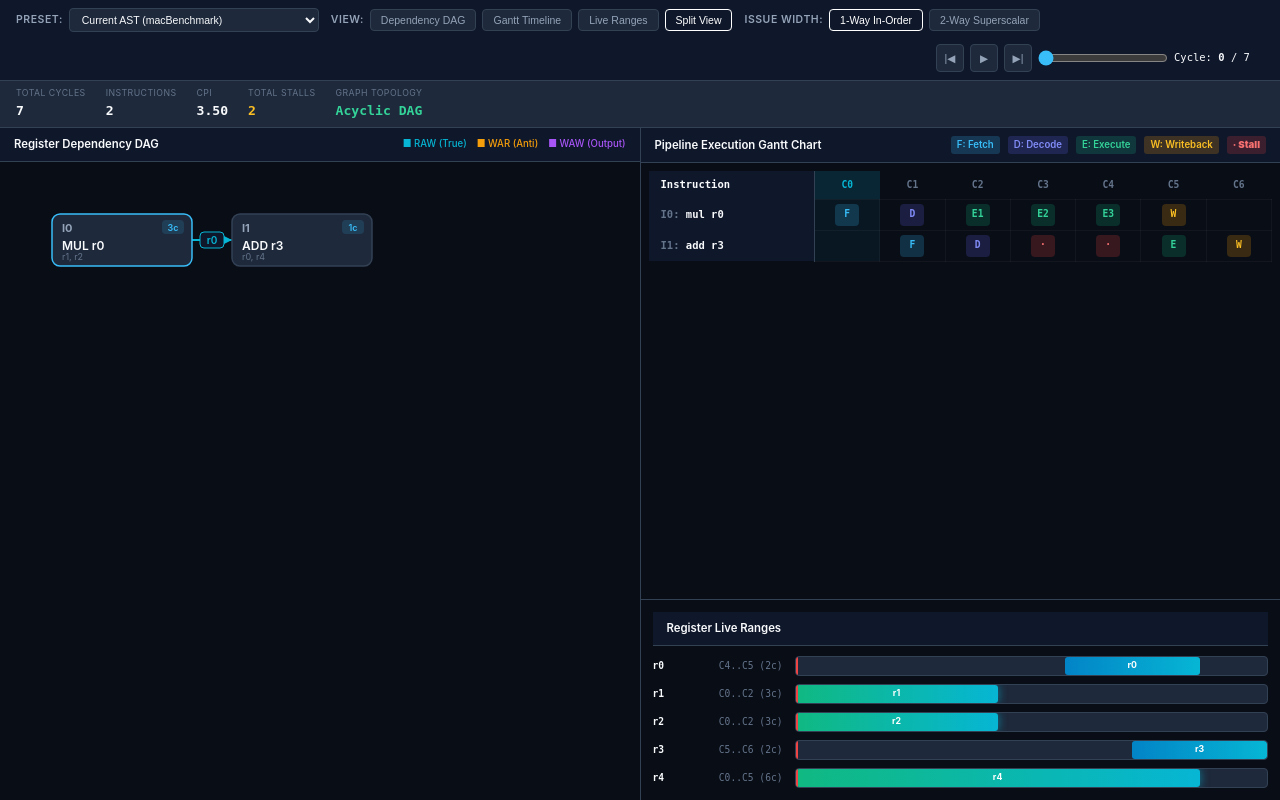
HardwarePipelineWidget Component › controls clock cycle scrubber via slider, step buttons, and auto-play
This screenshot has width=1280, height=800.
expect the element with test id "hardware-cycle-readout" reads "Cycle: 0 / 7": met, box [1174, 51, 1250, 63]
Note: Step Forward
Click the button with test id "hardware-step-fwd-btn" at (1018, 58), box [1004, 44, 1032, 72]
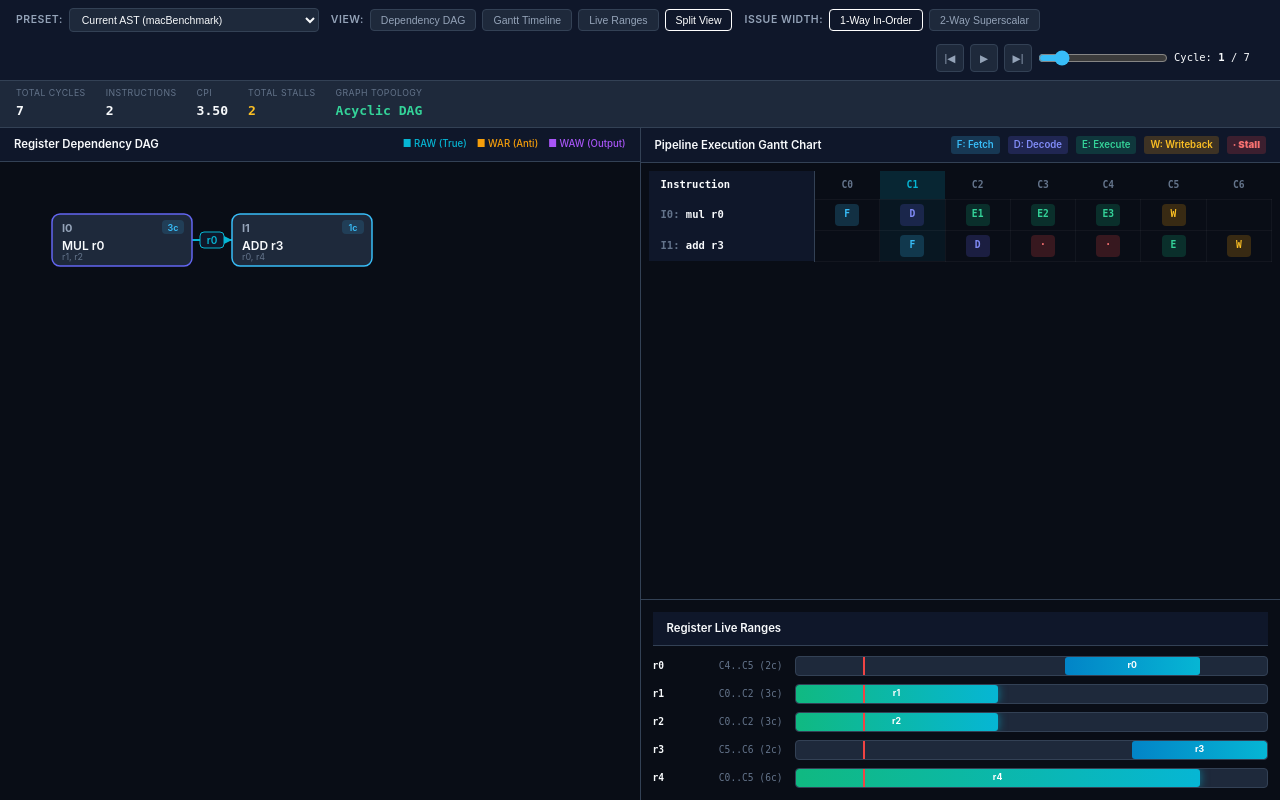
expect the element with test id "hardware-cycle-readout" reads "Cycle: 1 / 7": met, box [1174, 51, 1250, 63]
Note: Step Forward again
Click the button with test id "hardware-step-fwd-btn" at (1018, 58), box [1004, 44, 1032, 72]
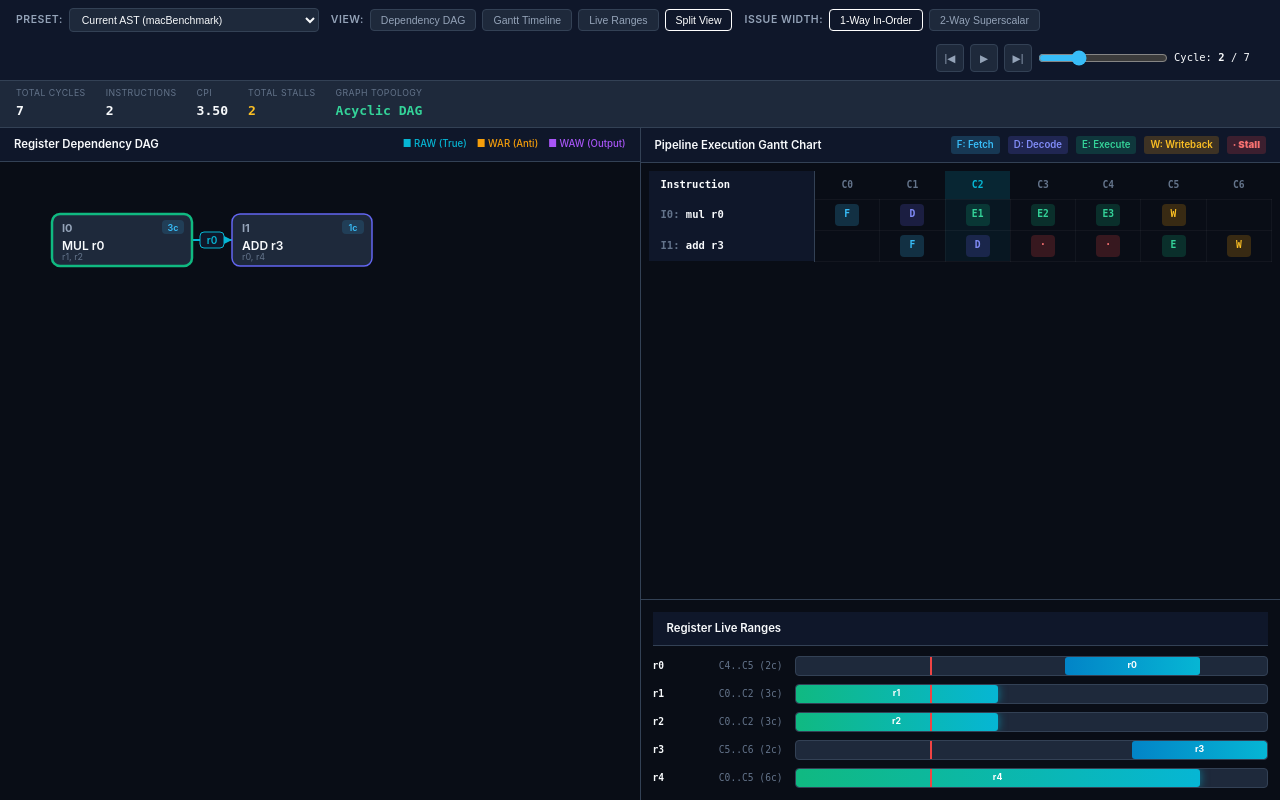
expect the element with test id "hardware-cycle-readout" reads "Cycle: 2 / 7": met, box [1174, 51, 1250, 63]
Note: Step Backward
Click the button with test id "hardware-step-back-btn" at (950, 58), box [936, 44, 964, 72]
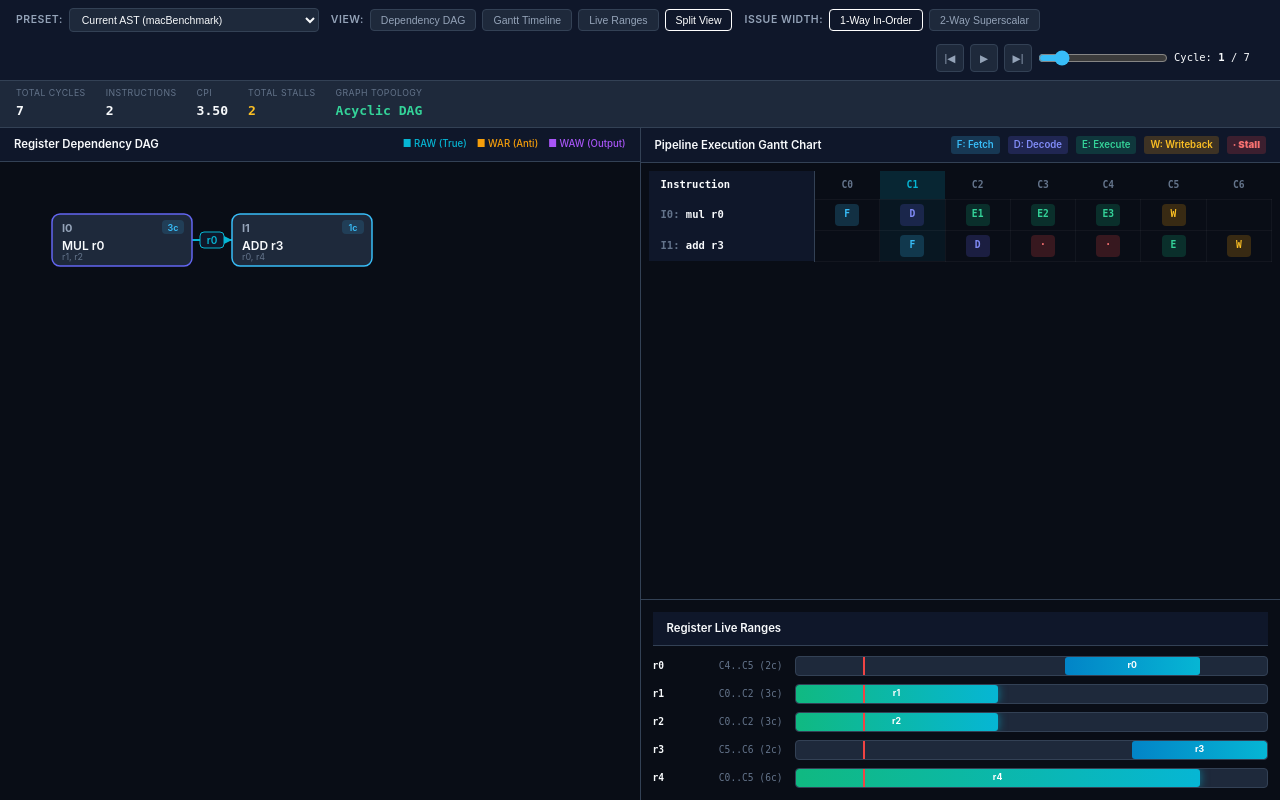
expect the element with test id "hardware-cycle-readout" reads "Cycle: 1 / 7": met, box [1174, 51, 1250, 63]
Note: Slider scrubbing
Set the slider with test id "hardware-cycle-slider" to "5" at (1127, 58), box [1038, 50, 1168, 66]
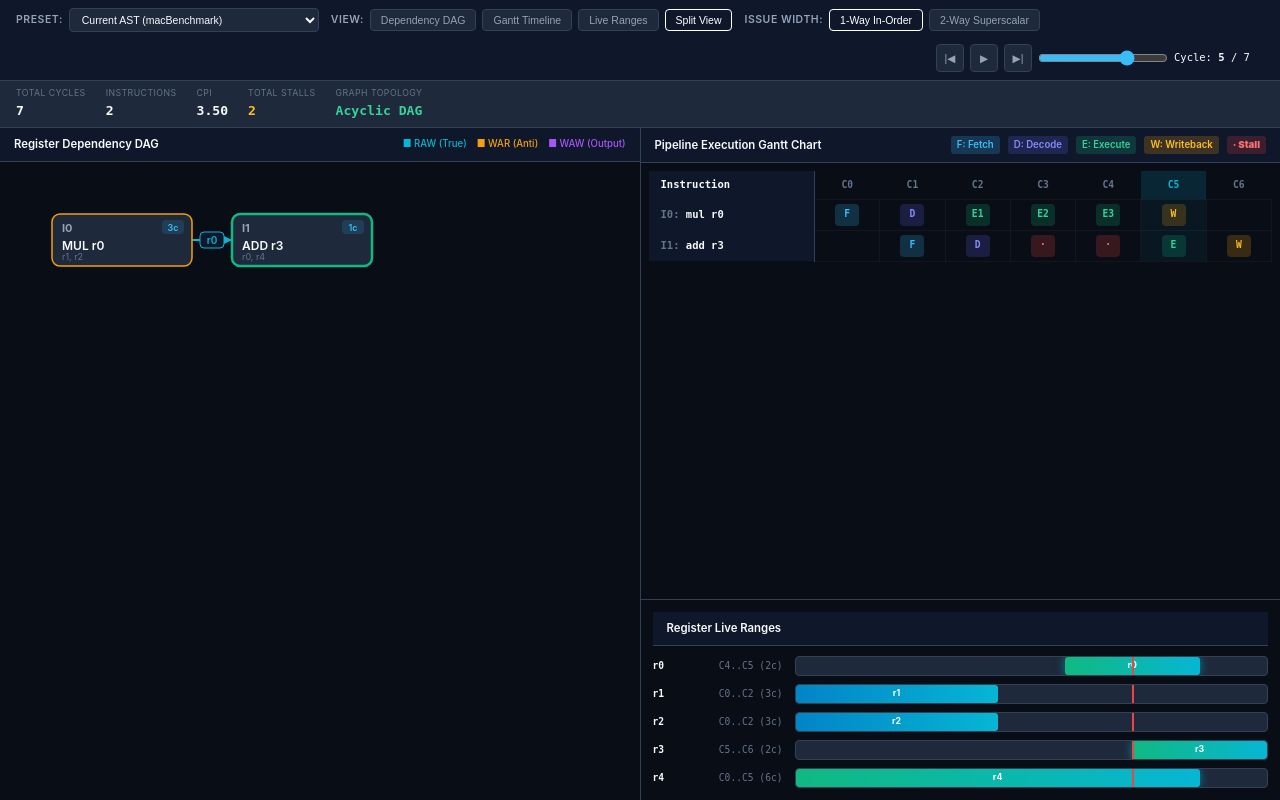
expect the element with test id "hardware-cycle-readout" reads "Cycle: 5 / 7": met, box [1174, 51, 1250, 63]
Click the button with test id "hardware-play-pause-btn" at (984, 58), box [970, 44, 998, 72]
Wait 500 ms
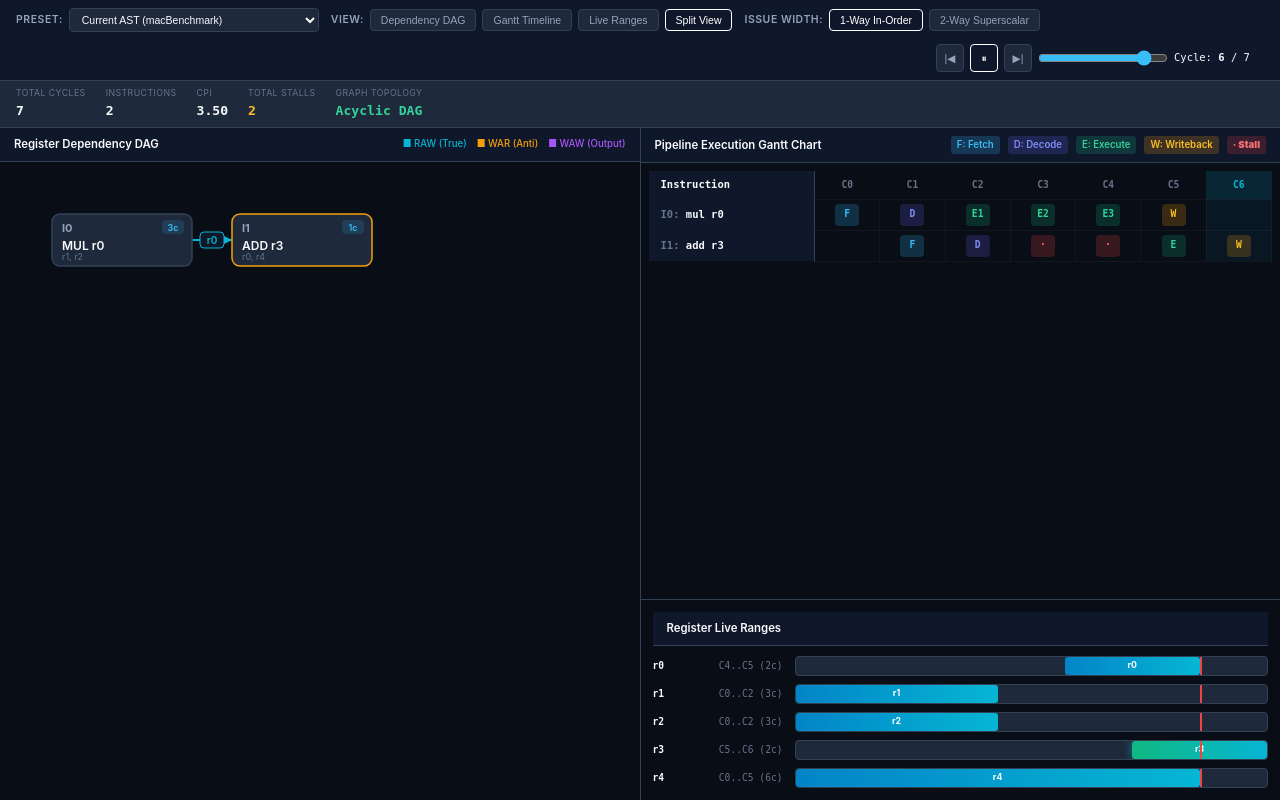
expect the button with test id "hardware-play-pause-btn" reads "⏸": met
expect the element with test id "hardware-cycle-readout" reads "Cycle: 6 / 7": met, box [1174, 51, 1250, 63]
Click the button with test id "hardware-play-pause-btn" at (984, 58), box [970, 44, 998, 72]
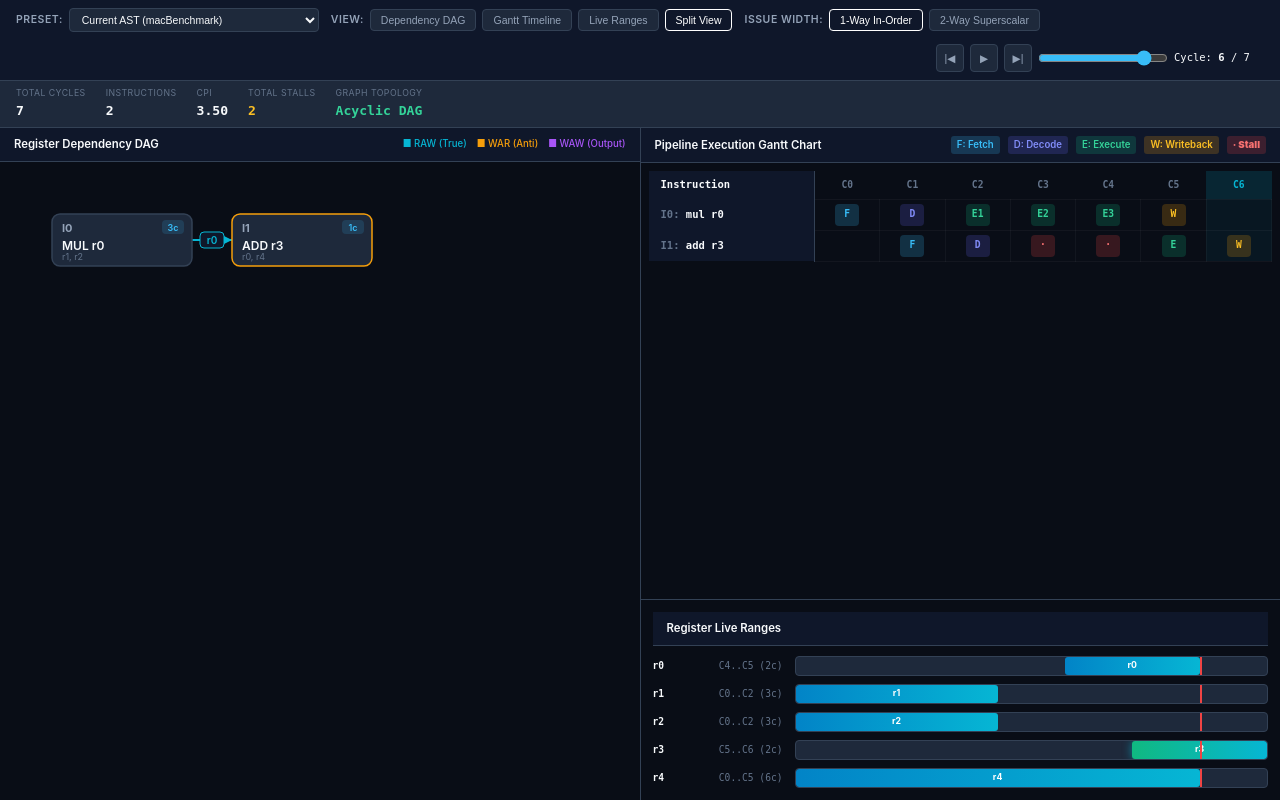
expect the button with test id "hardware-play-pause-btn" reads "▶": met, box [970, 44, 998, 72]
